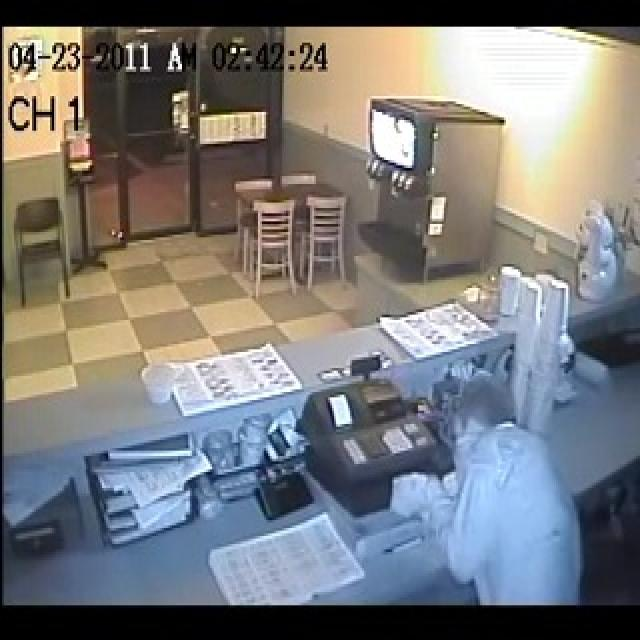thief: (419, 378, 591, 605)
